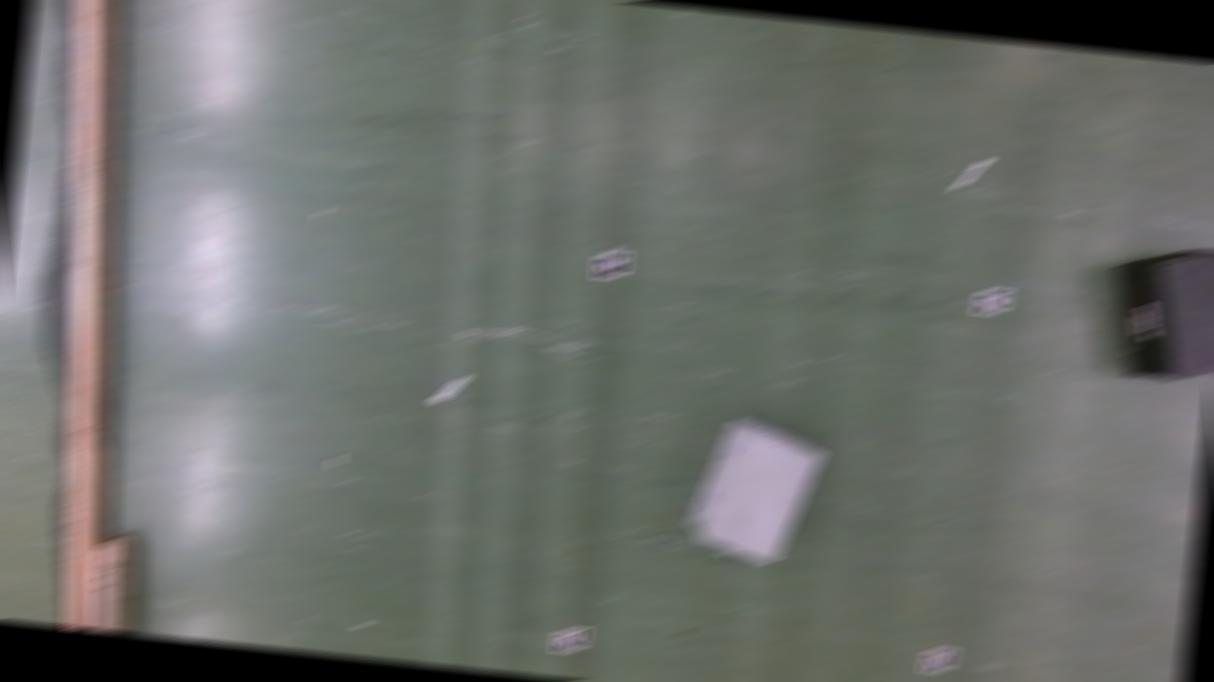probes: (431, 371, 467, 404), (956, 155, 990, 188)
rako: (684, 412, 827, 564), (1101, 238, 1214, 383)
